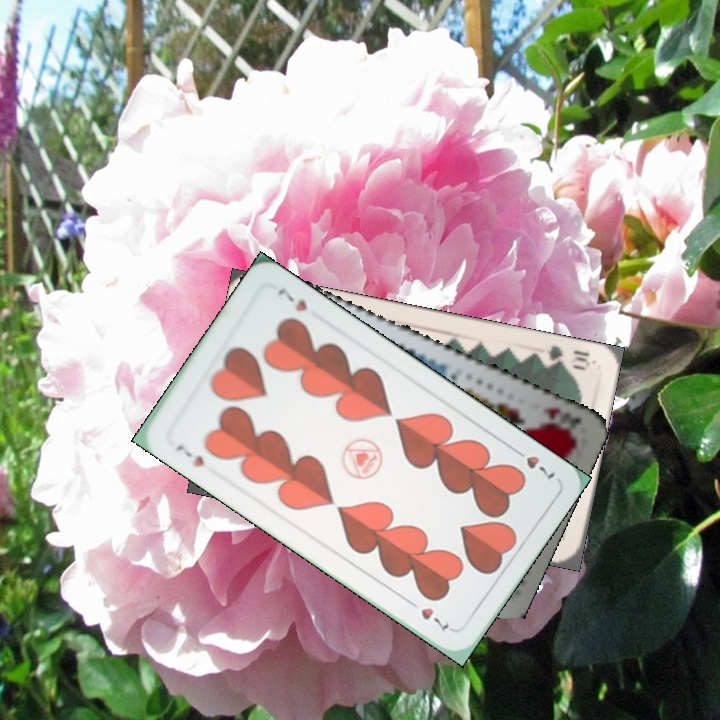G10: (535, 341, 593, 373)
H7: (507, 443, 558, 481), (172, 440, 207, 470)
HK: (537, 402, 585, 439)
